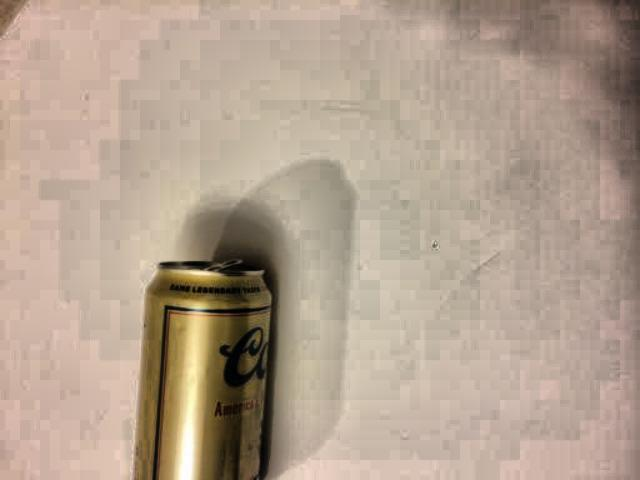Bottles: (120, 228, 290, 480)
